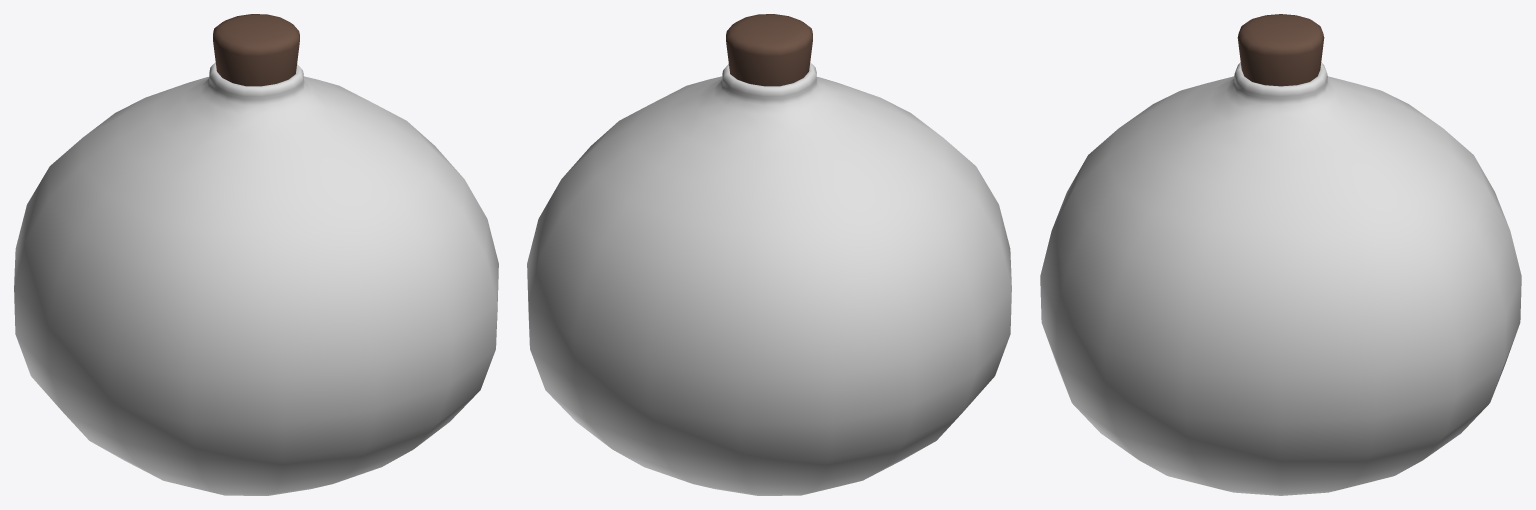
The model's file is potion9_filled.glb.
3 views of the same model, side by side, from view 1: azimuth 30°, elevation 25°; view 2: azimuth 150°, elevation 25°; view 3: azimuth 270°, elevation 25° (orthographic).
Parts seen in each view (by area): view 1: Potion9_Filled; view 2: Potion9_Filled; view 3: Potion9_Filled.
Part boxes in pixels (left/top/right/bottom): Potion9_Filled: left=14, top=14, right=498, bottom=495; Potion9_Filled: left=527, top=14, right=1011, bottom=495; Potion9_Filled: left=1040, top=14, right=1521, bottom=495.
Bounding box in the file's own units: 1.26 × 1.29 × 1.26.
